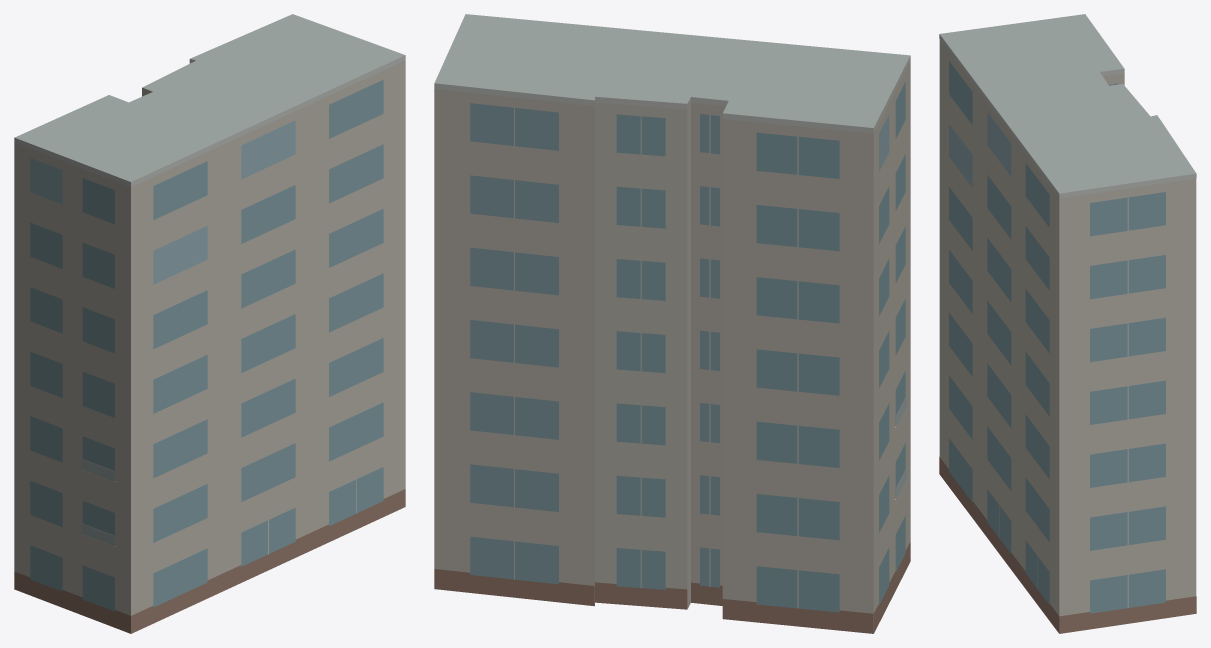
File: survey-upis-32570840.glb
3 views of the same model, side by side, from view 1: azimuth 30°, elevation 25°; view 2: azimuth 150°, elevation 25°; view 3: azimuth 270°, elevation 25° (orthographic). The views are drawn at different scales.
Parts seen in each view (by area): view 1: survey-upis-32570840.tmp; view 2: survey-upis-32570840.tmp; view 3: survey-upis-32570840.tmp.
Part boxes in pixels (x1,y1,x2,y2): survey-upis-32570840.tmp: (14,14,405,633); survey-upis-32570840.tmp: (434,14,910,633); survey-upis-32570840.tmp: (939,14,1196,633).
Bounding box in the file's own units: 19.09 × 21.8 × 11.54.
